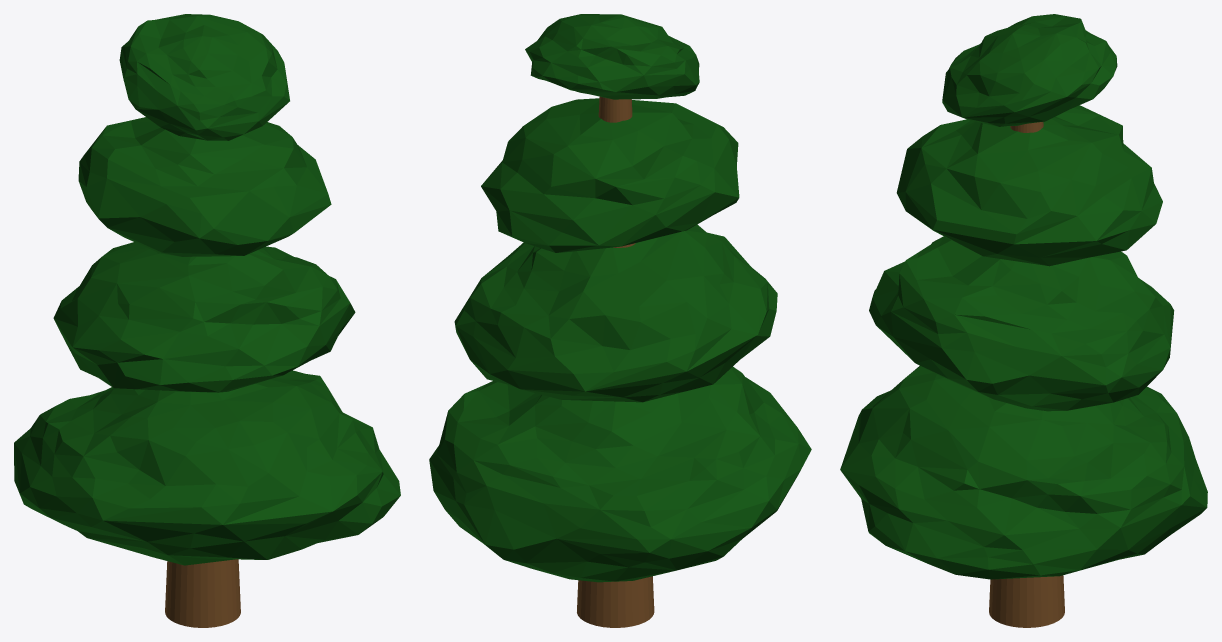
The model's file is Tree_01.fbx.
The picture shows the model from 3 angles, left to right: view 1: azimuth 30°, elevation 25°; view 2: azimuth 150°, elevation 25°; view 3: azimuth 270°, elevation 25°; orthographic projection. The views are drawn at different scales.
Parts seen in each view (by area): view 1: Icosphere; view 2: Icosphere; view 3: Icosphere.
Boxes of the visible parts, box(x1,y1,x2,y2) form: Icosphere: box(14, 14, 400, 627); Icosphere: box(429, 14, 811, 627); Icosphere: box(840, 14, 1207, 627).
Size of the model in its own units: 298 by 507 by 290.
